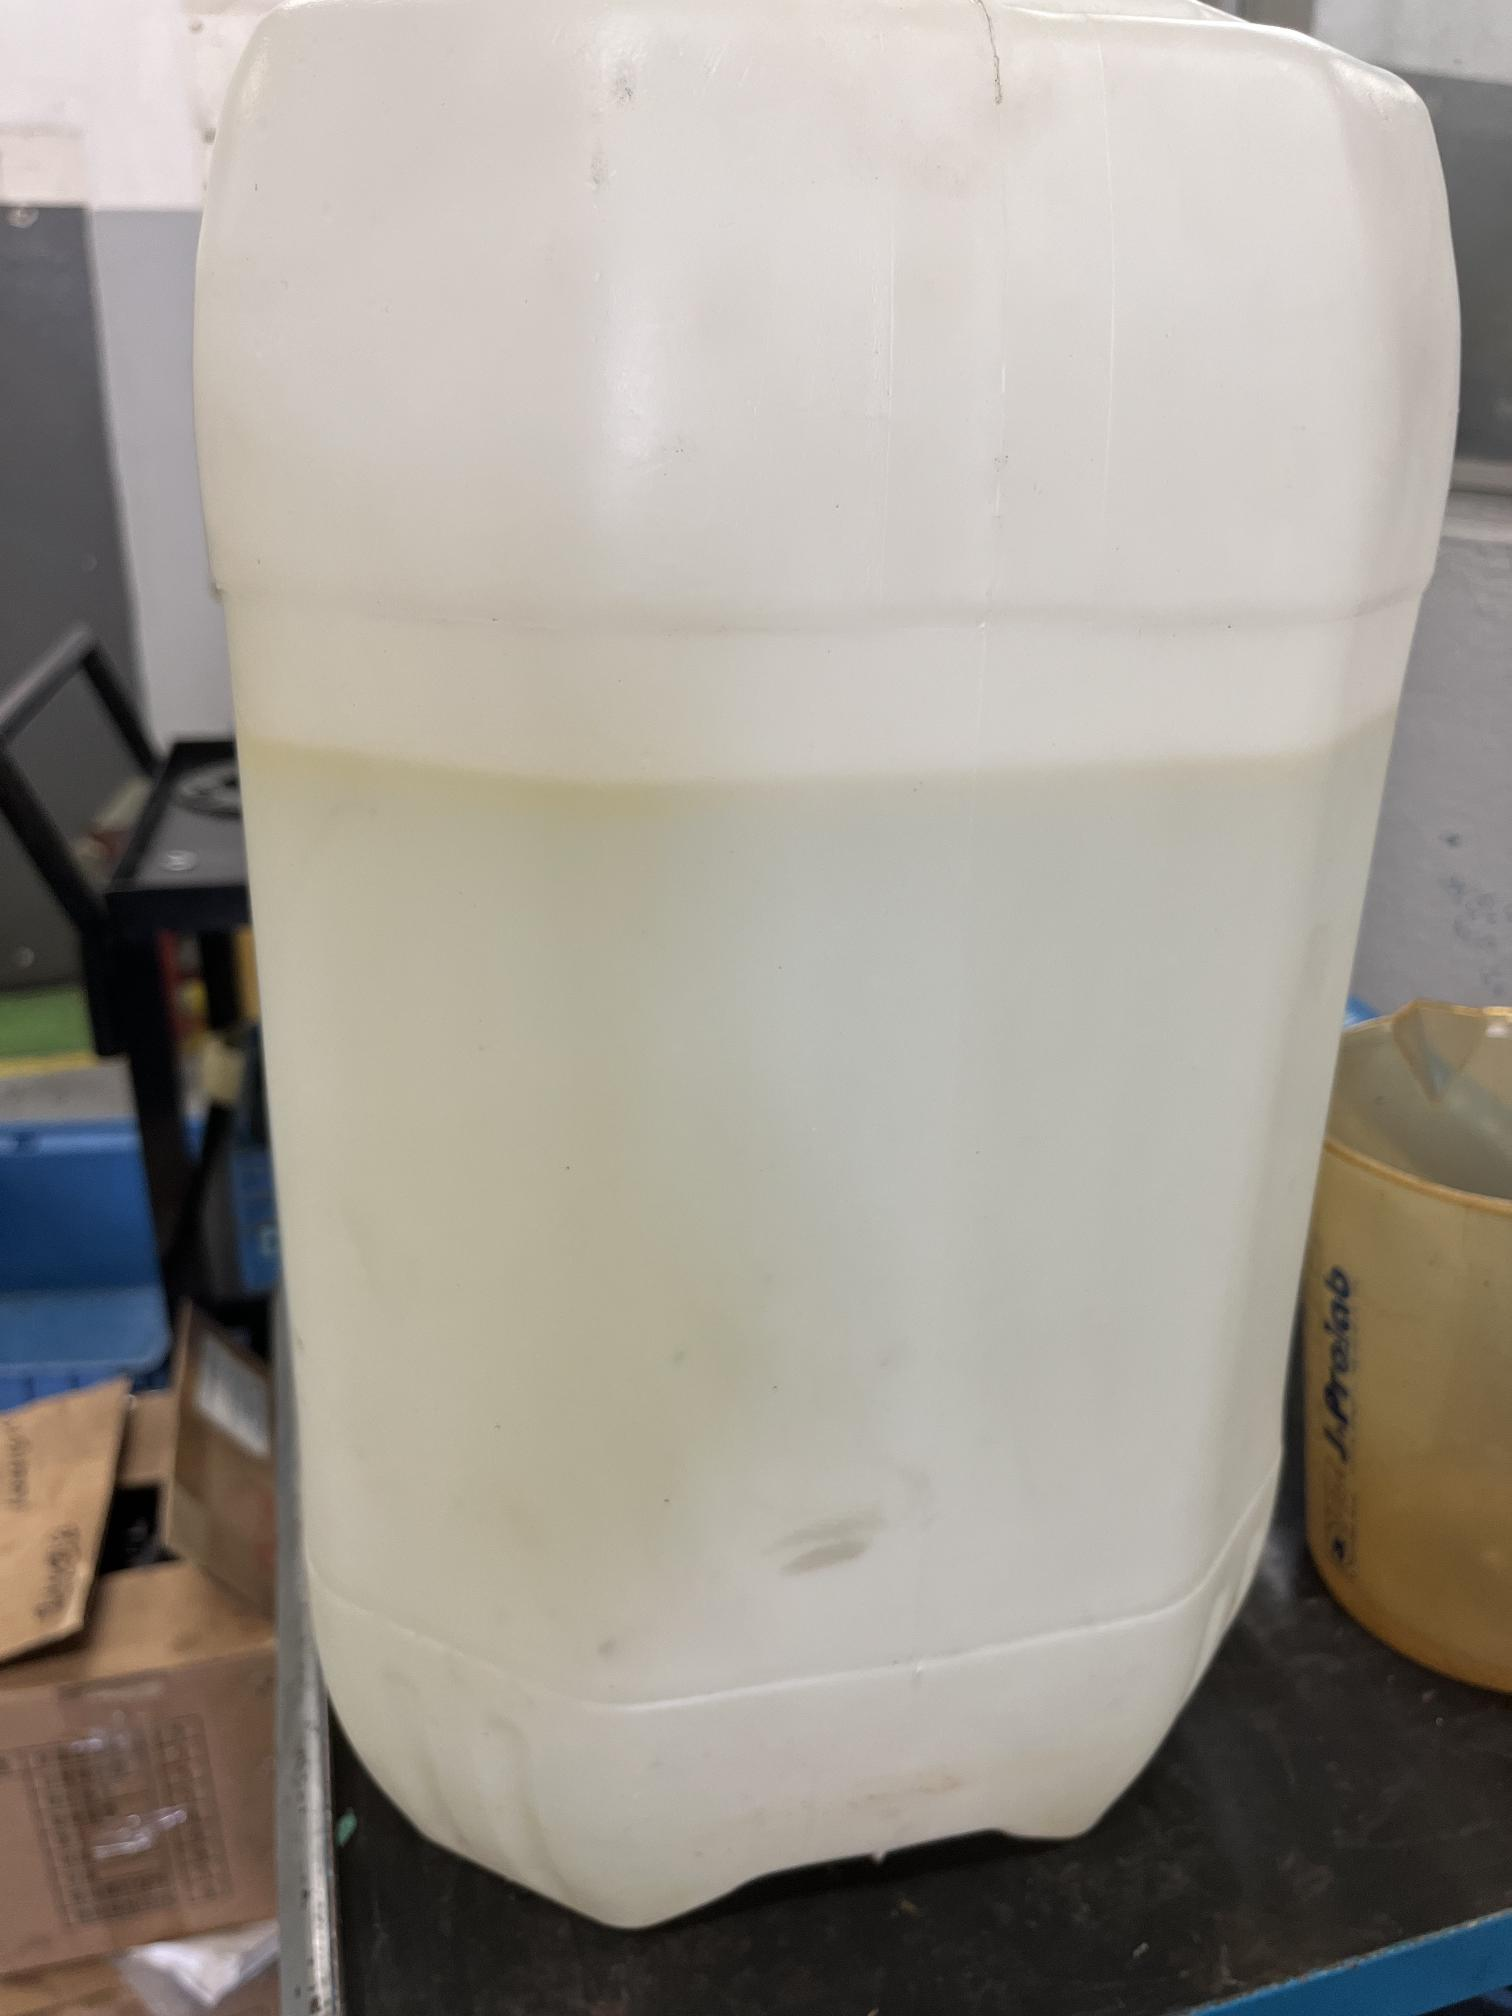Galao: (184, 90, 1420, 1949)
